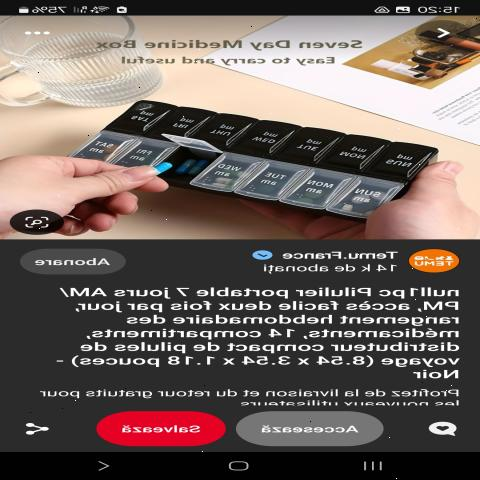PillBox: (50, 97, 442, 218)
